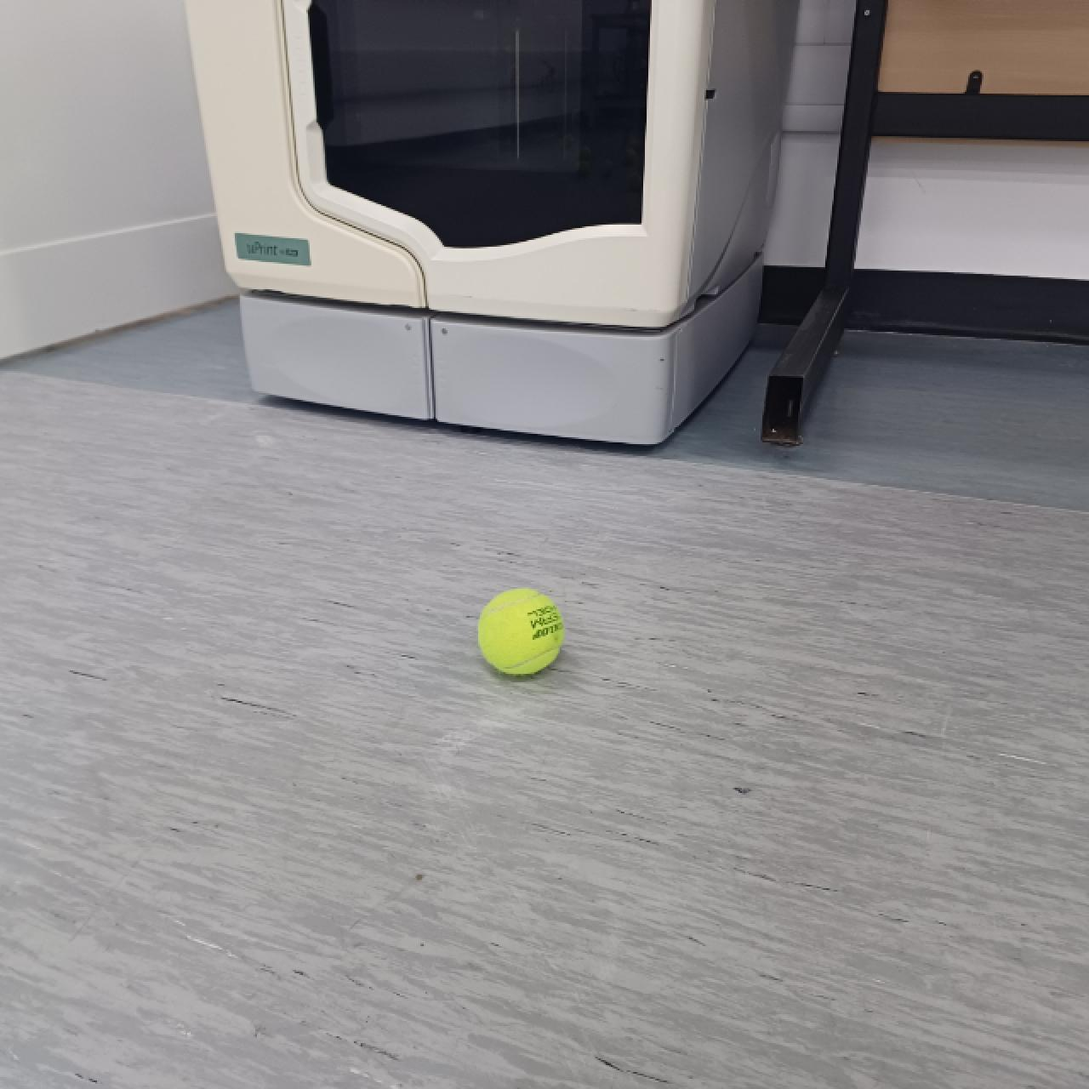tennis-ball: (476, 584, 566, 679)
